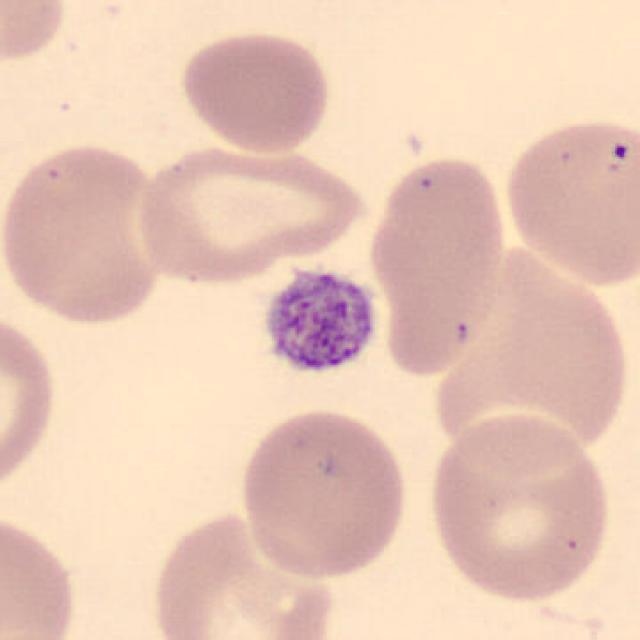Platelets: (256, 261, 380, 381)
RBC: (419, 259, 633, 473), (423, 409, 617, 607), (128, 140, 370, 288), (363, 148, 512, 379), (0, 137, 174, 328), (235, 404, 414, 584), (148, 506, 340, 640), (498, 111, 640, 289), (176, 25, 334, 157), (0, 304, 62, 502), (0, 506, 84, 640), (0, 0, 71, 67)
